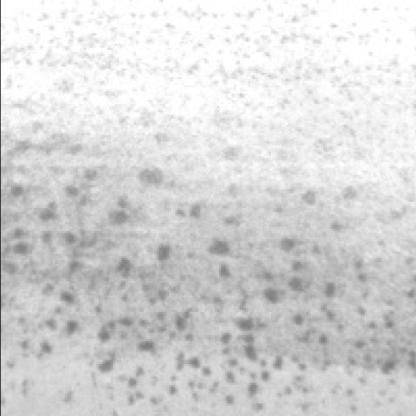pitted_surface: (0, 150, 402, 406), (2, 11, 339, 86)
